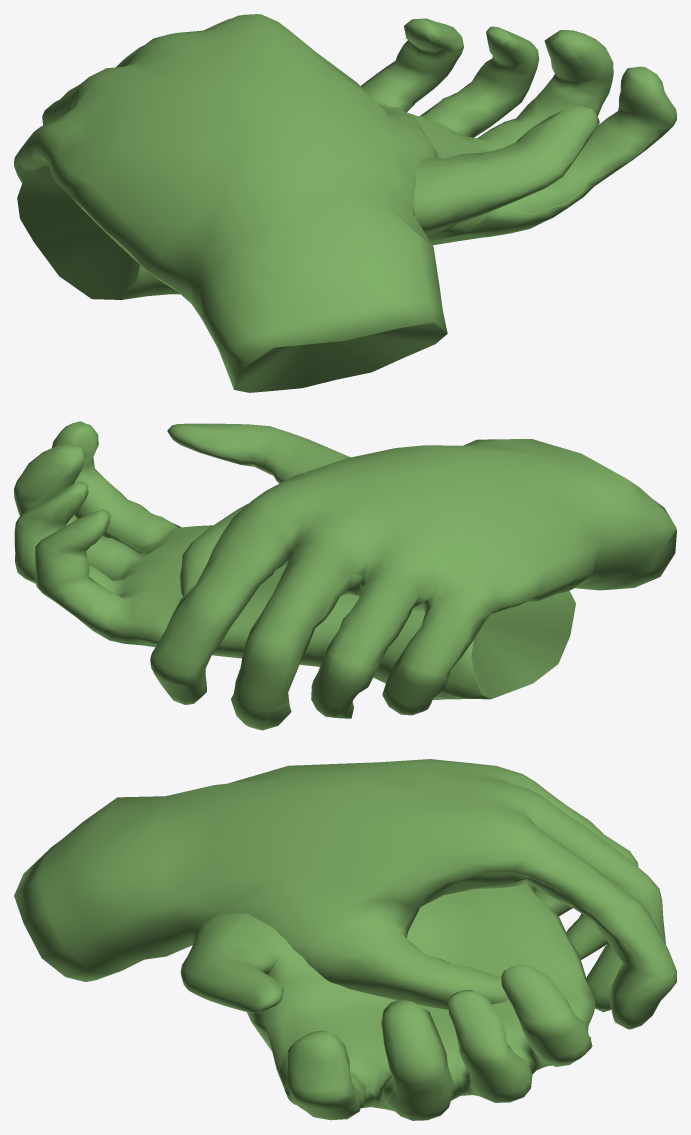
The model's file is nomex_gloves.fbx.
The picture shows the model from 3 angles, top to bottom: view 1: azimuth 30°, elevation 25°; view 2: azimuth 150°, elevation 25°; view 3: azimuth 270°, elevation 25°; orthographic projection. The views are drawn at different scales.
Visible parts, largest first — view 1: nomex_m; view 2: nomex_m; view 3: nomex_m.
Part boxes in pixels (<box>): nomex_m: <box>14,14,676,392</box>; nomex_m: <box>14,421,676,730</box>; nomex_m: <box>14,759,676,1120</box>.
Size of the model in its own units: 1135 by 391 by 1109.
